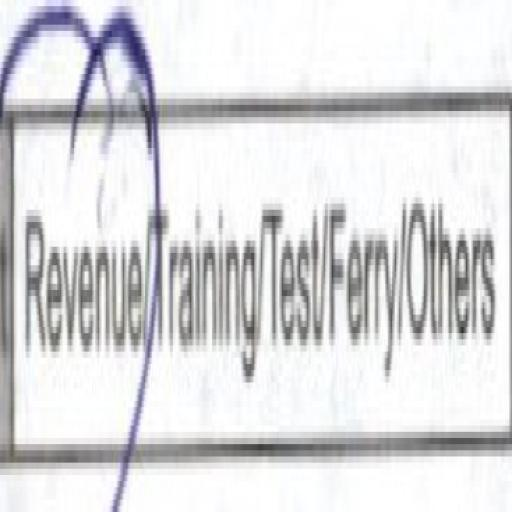check: (0, 0, 157, 512)
